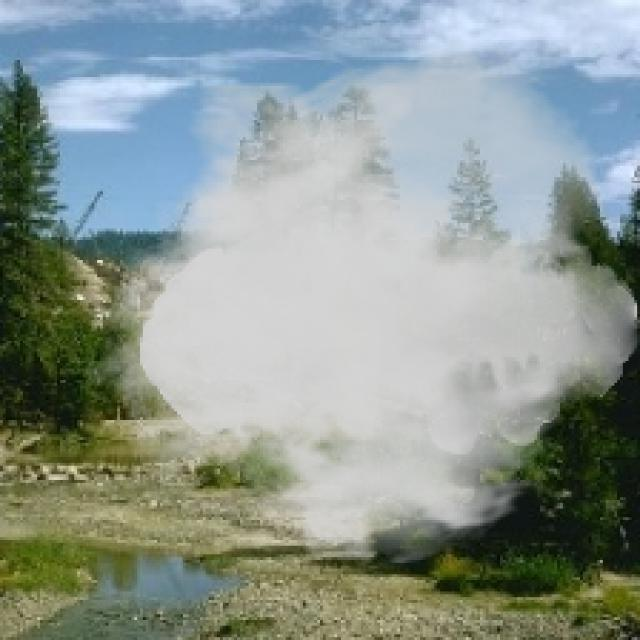smoke: (83, 37, 637, 574)
